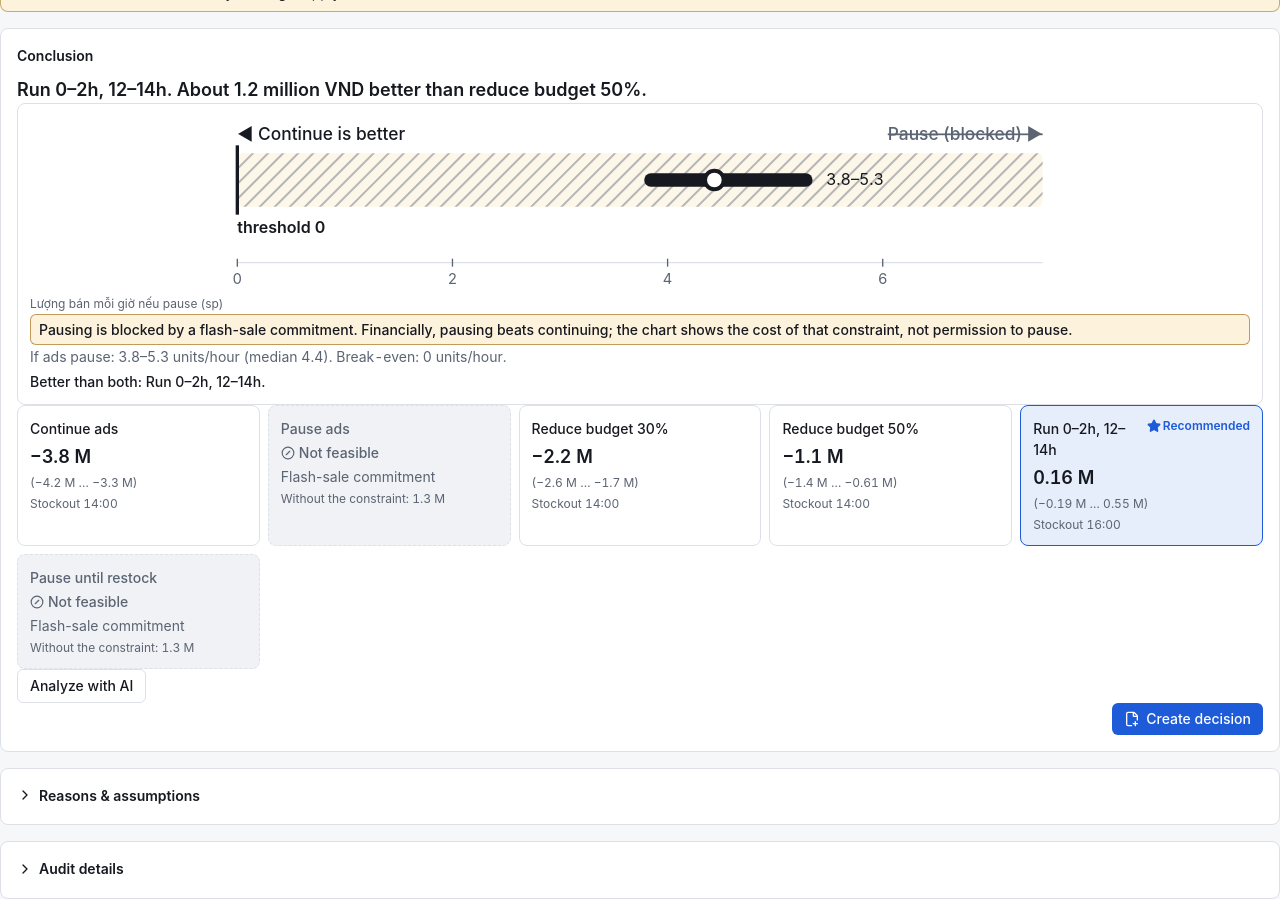
Compare screen · CD002 on 11.11 (API snapshot fixture) › tier 3: table of 5 actions with violations, and lineage
(page scrolled)
Click the button "Audit details" at (70, 869), box [13, 854, 128, 883]
(page scrolled)
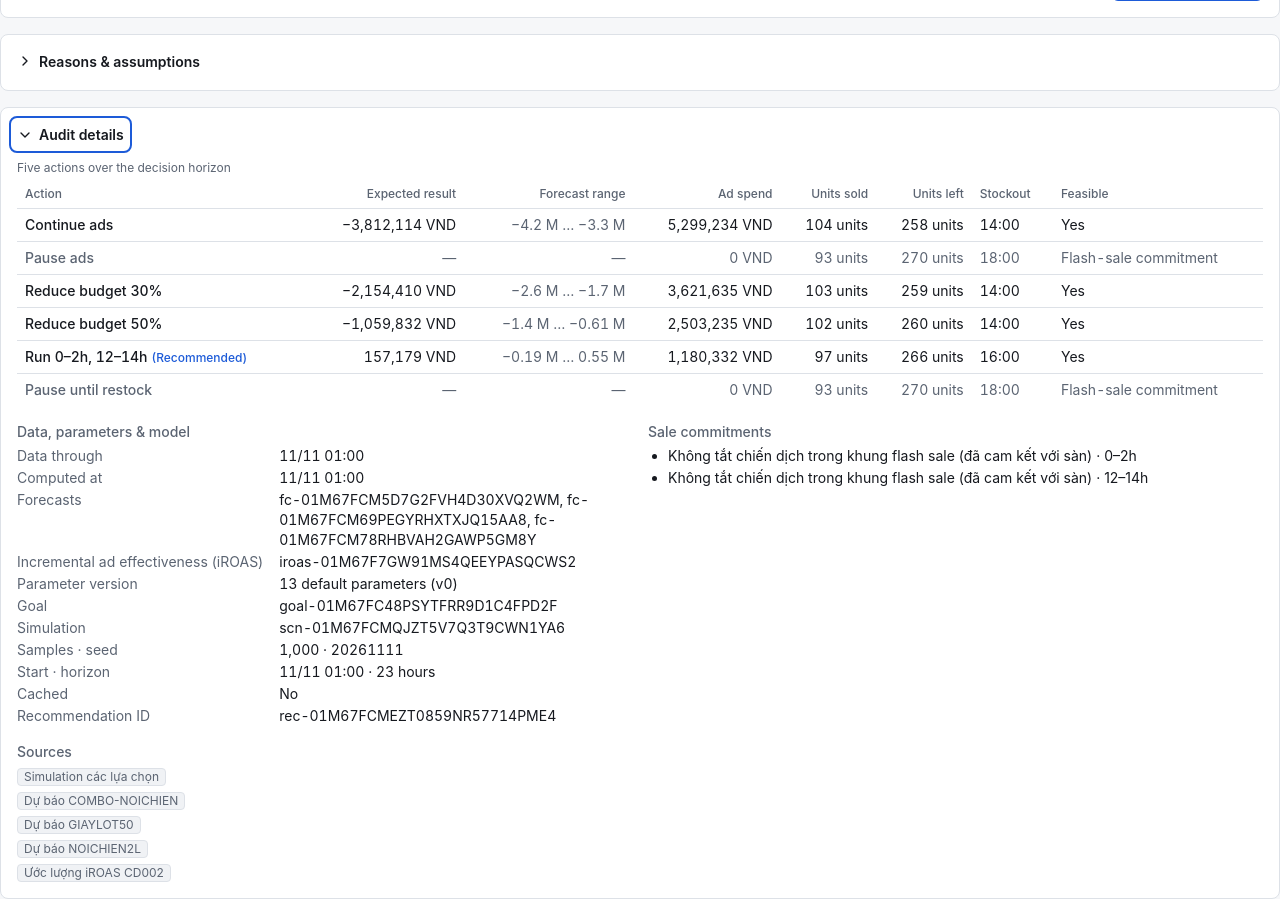
Expected: the number of rows is 7
Expected: the text "Flash-sale commitment" is shown 2 times, [1053, 241, 1263, 274]; [1053, 373, 1263, 406]
Expected: the text "iroas-01M67F7GW91MS4QEEYPASQCWS2" is shown, [279, 553, 576, 570]
